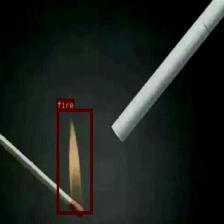fire: (56, 108, 93, 214)
